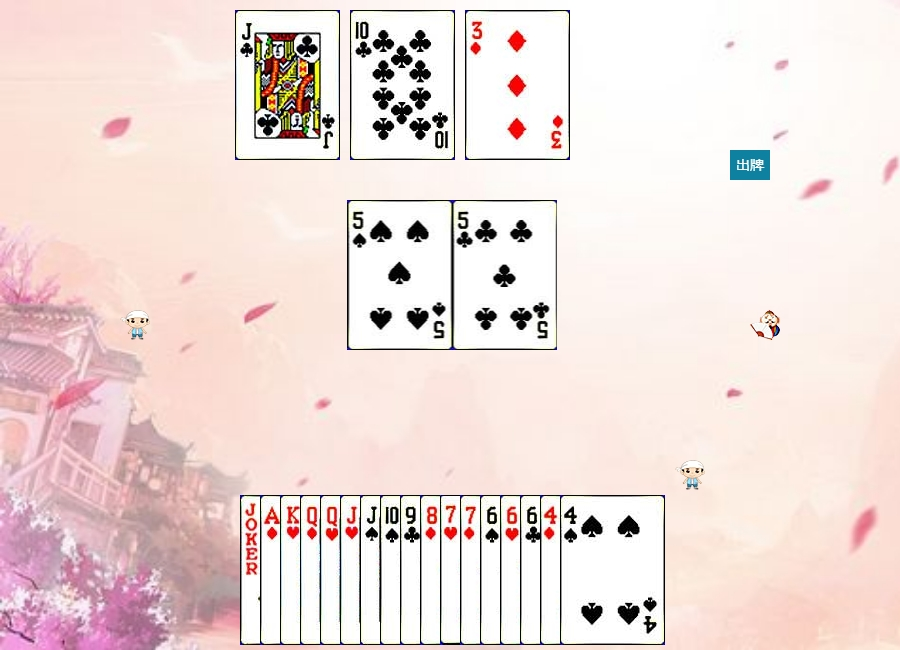10~2: (350, 10, 455, 160)
10~4: (380, 495, 485, 645)
11~2: (235, 10, 340, 160)
11~3: (340, 495, 445, 645)
11~4: (360, 495, 465, 645)
12~1: (300, 495, 405, 645)
12~3: (320, 495, 425, 645)
13~3: (280, 495, 385, 645)
14~1: (260, 495, 365, 645)
18~4: (240, 495, 345, 645)
3~1: (465, 10, 570, 160)
4~1: (540, 495, 645, 645)
4~4: (560, 495, 665, 645)
5~2: (453, 200, 558, 350)
5~4: (348, 200, 453, 350)
6~2: (520, 495, 625, 645)
6~3: (500, 495, 605, 645)
6~4: (480, 495, 585, 645)
7~1: (460, 495, 565, 645)
7~3: (440, 495, 545, 645)
8~1: (420, 495, 525, 645)
9~2: (400, 495, 505, 645)
